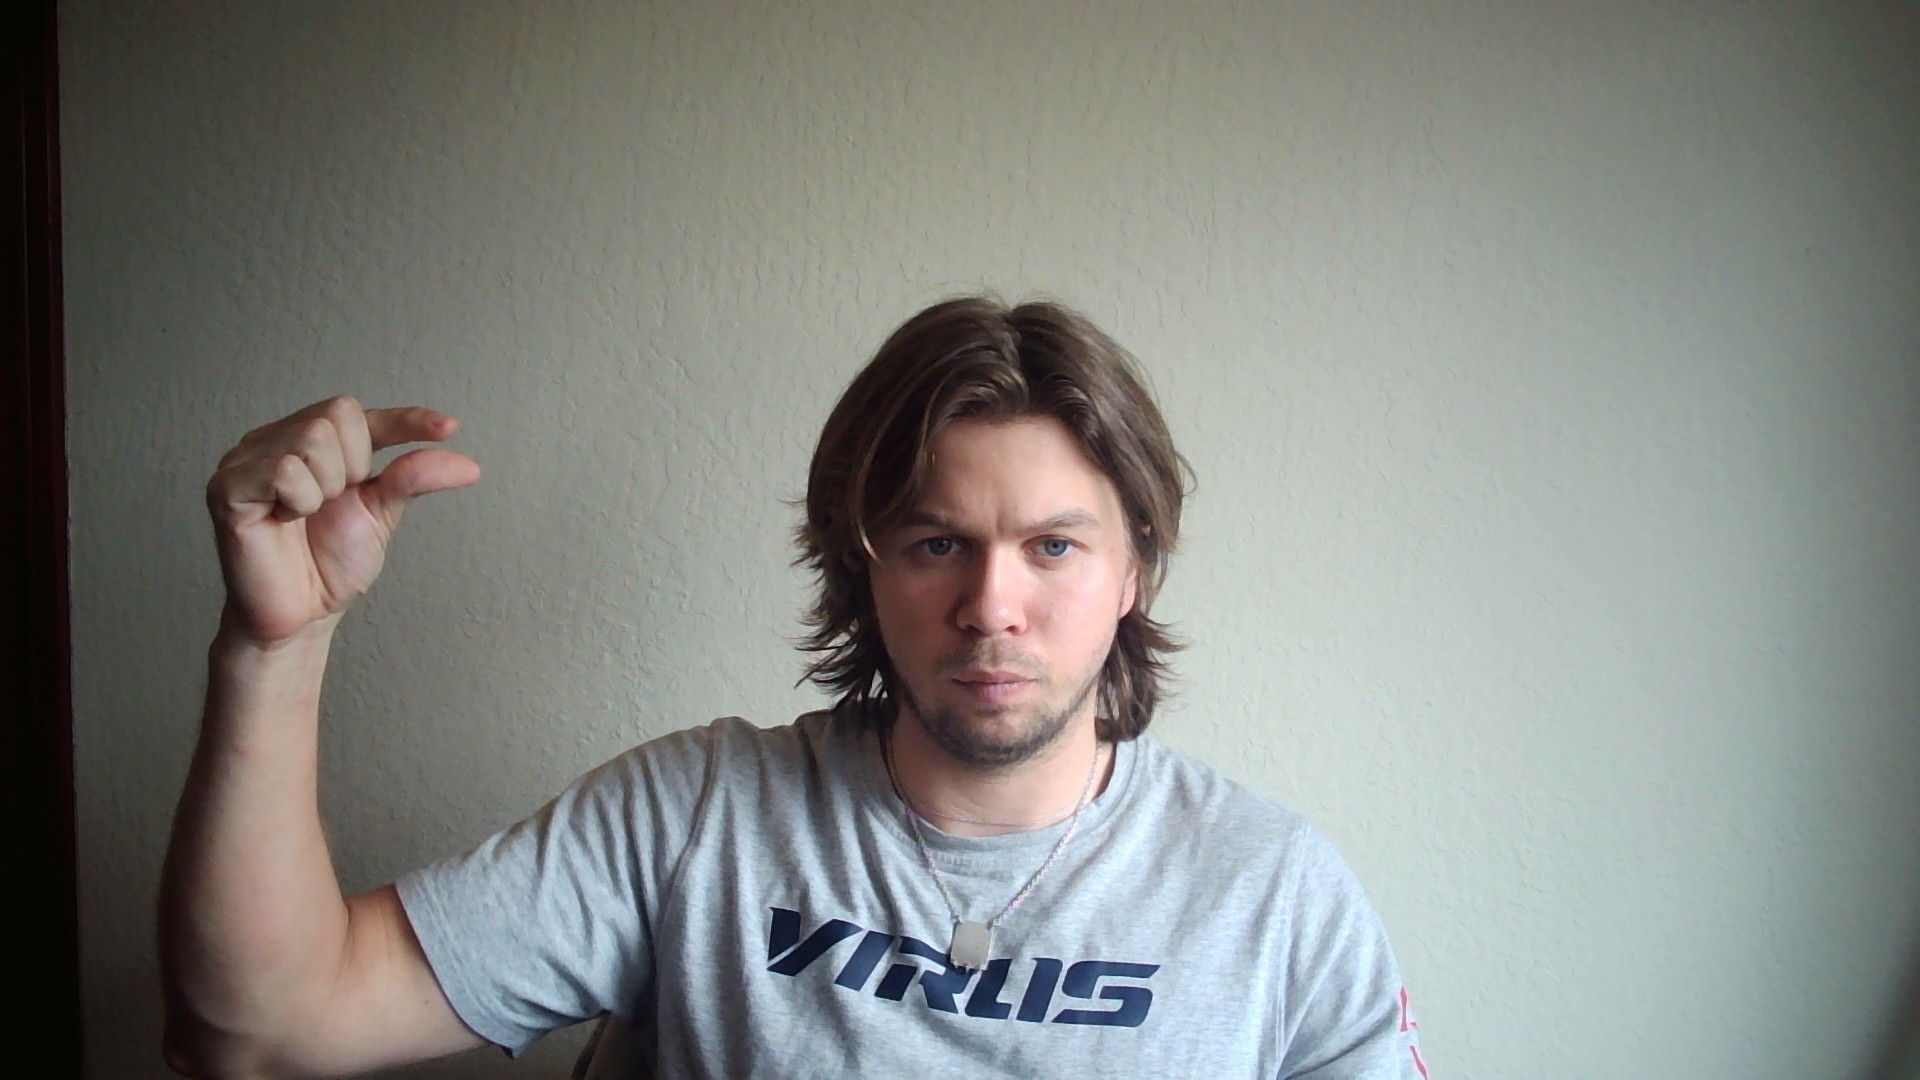small: (204, 394, 481, 638)
